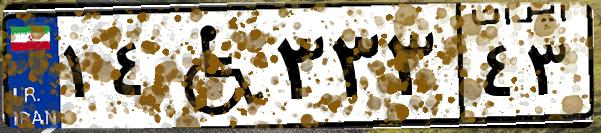1: (57, 26, 110, 100)
3: (270, 28, 330, 110), (385, 28, 445, 110), (330, 28, 385, 110), (525, 38, 570, 115)
4: (475, 38, 525, 113), (110, 28, 158, 98)
ژ (معلولین و جانبازان): (158, 12, 270, 120)
